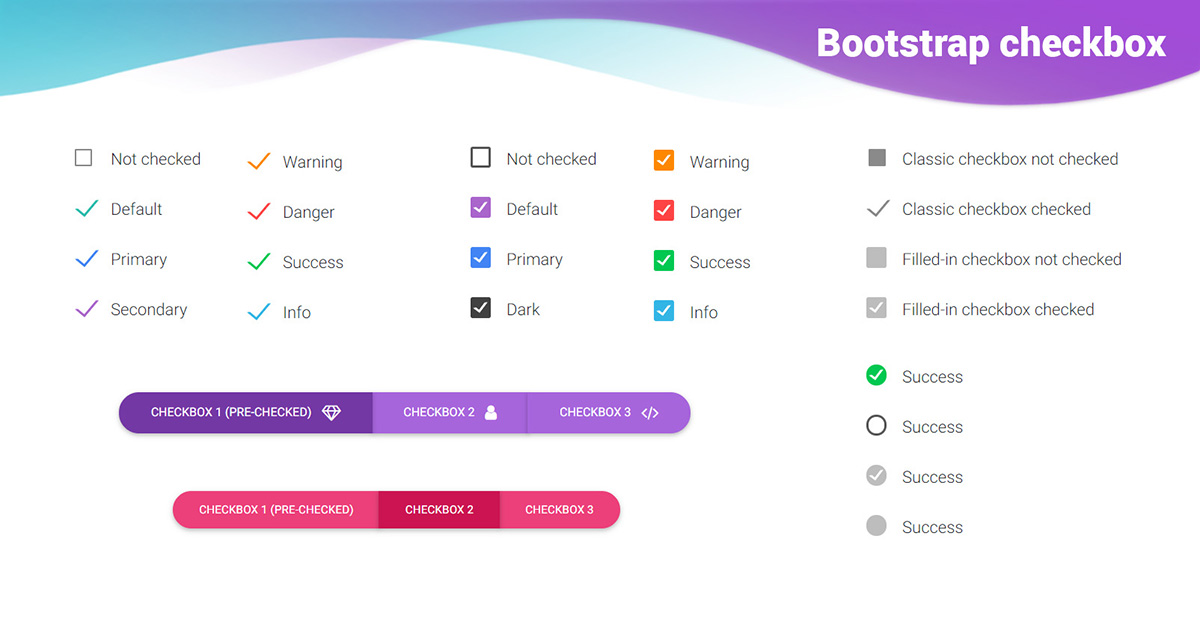checkbox: (644, 236, 692, 283), (455, 287, 500, 335), (645, 288, 680, 328), (859, 285, 893, 325), (462, 195, 498, 232), (854, 195, 893, 227), (854, 240, 893, 271), (858, 145, 891, 181), (645, 143, 680, 175), (462, 242, 498, 269), (648, 195, 680, 225), (466, 143, 494, 175)
radiobutton: (862, 407, 898, 442), (853, 507, 887, 543), (862, 356, 894, 394), (859, 461, 893, 488)
